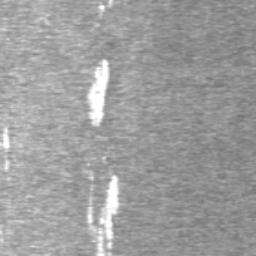White rust: (86, 174, 120, 256), (87, 58, 110, 126), (98, 0, 112, 18), (2, 125, 10, 150), (3, 158, 11, 171), (87, 171, 94, 181)
